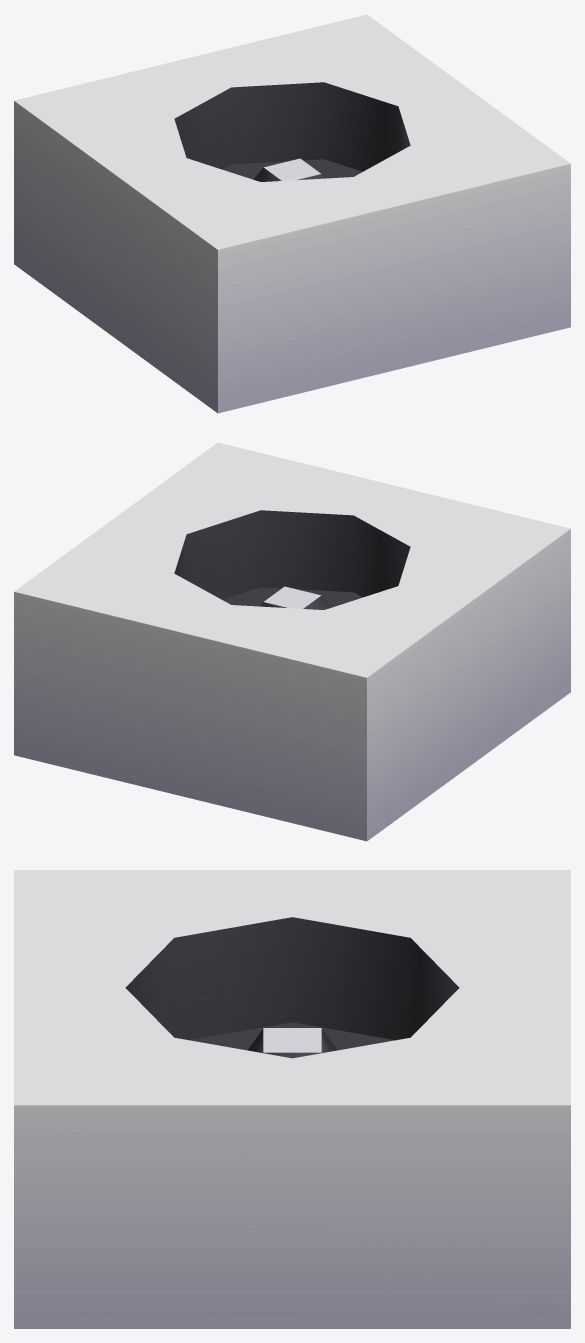
The model's file is k-detail-ac-a.glb.
3 views of the same model, one above another, from view 1: azimuth 30°, elevation 25°; view 2: azimuth 150°, elevation 25°; view 3: azimuth 270°, elevation 25° (orthographic). The views are drawn at different scales.
Visible parts, largest first — view 1: detail-ac-a; view 2: detail-ac-a; view 3: detail-ac-a.
Boxes of the visible parts, left/top/right/bottom form: detail-ac-a: left=14, top=14, right=570, bottom=413; detail-ac-a: left=14, top=442, right=570, bottom=841; detail-ac-a: left=14, top=870, right=570, bottom=1328.
Size of the model in its own units: 0.24 by 0.1062 by 0.24.
1 material, 1 textured.
